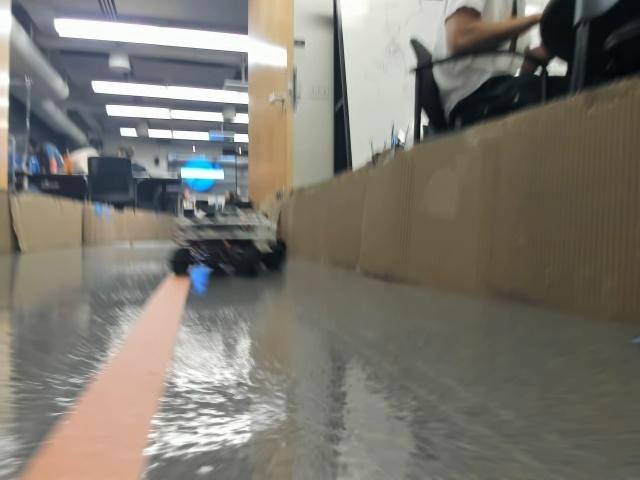Car: (171, 197, 288, 275)
